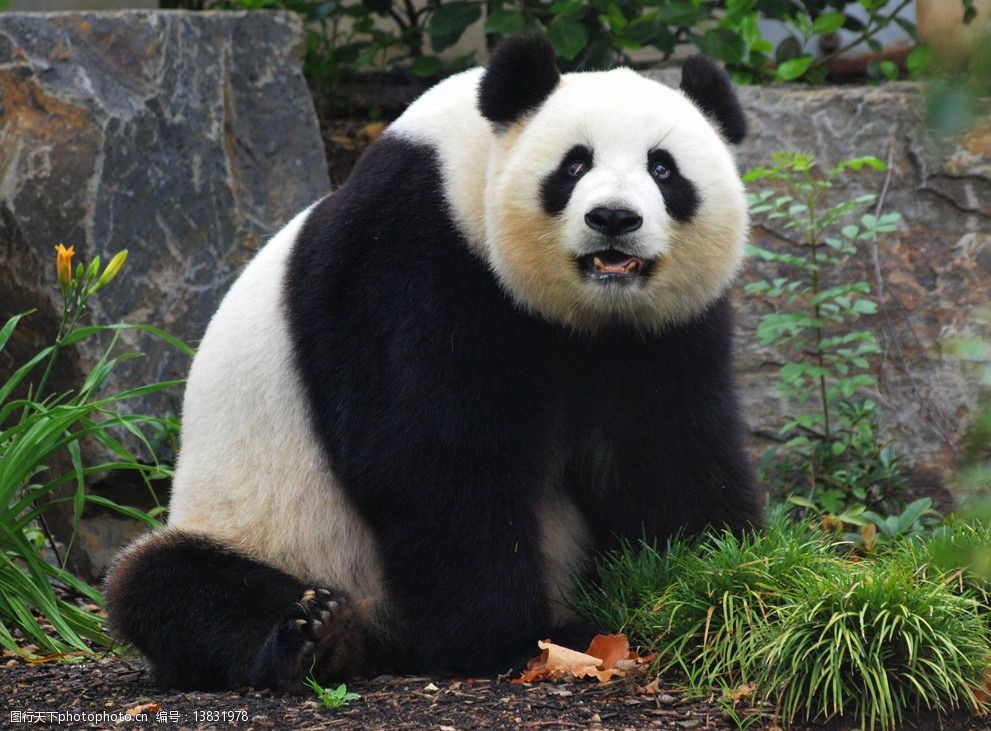panda: (138, 32, 790, 701)
